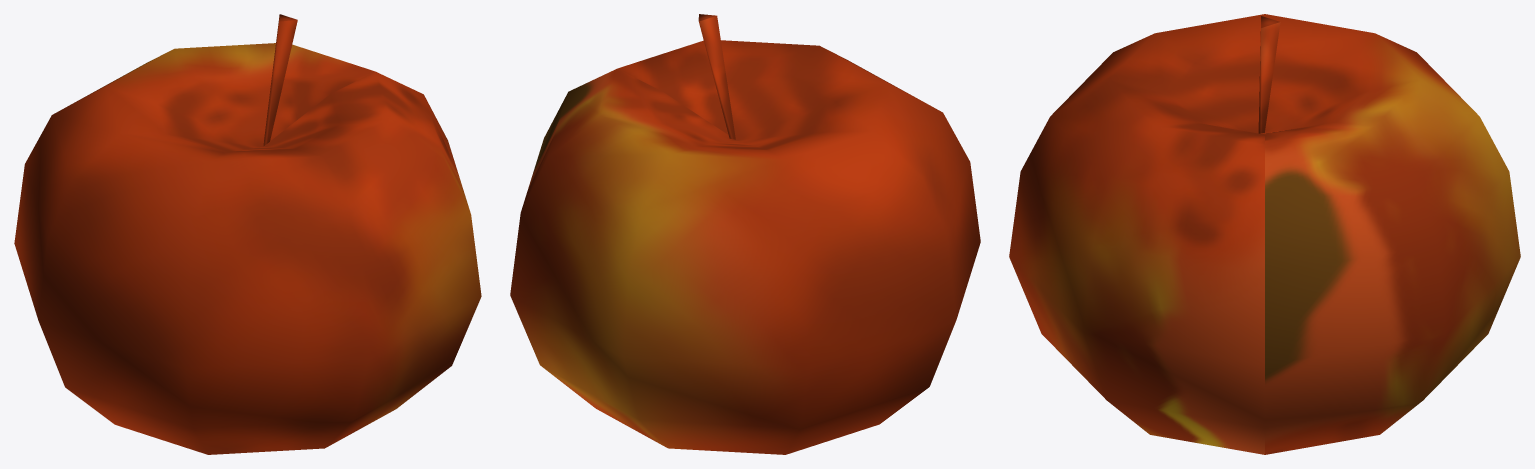
The model's file is apple.obj.
The picture shows the model from 3 angles, left to right: view 1: azimuth 30°, elevation 25°; view 2: azimuth 150°, elevation 25°; view 3: azimuth 270°, elevation 25°; orthographic projection. The views are drawn at different scales.
Visible parts, largest first — view 1: Cone; view 2: Cone; view 3: Cone.
Boxes of the visible parts, box(x1,y1,x2,y2) form: Cone: box(14, 14, 481, 454); Cone: box(510, 14, 980, 454); Cone: box(1009, 14, 1520, 454).
Bounding box in the file's own units: 1.36 × 1.19 × 1.36.
1 material, 1 textured.
